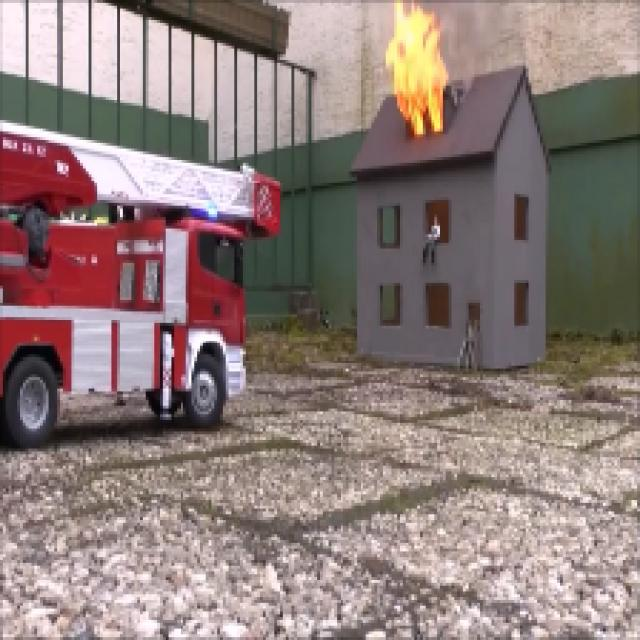fire: (381, 0, 453, 142)
